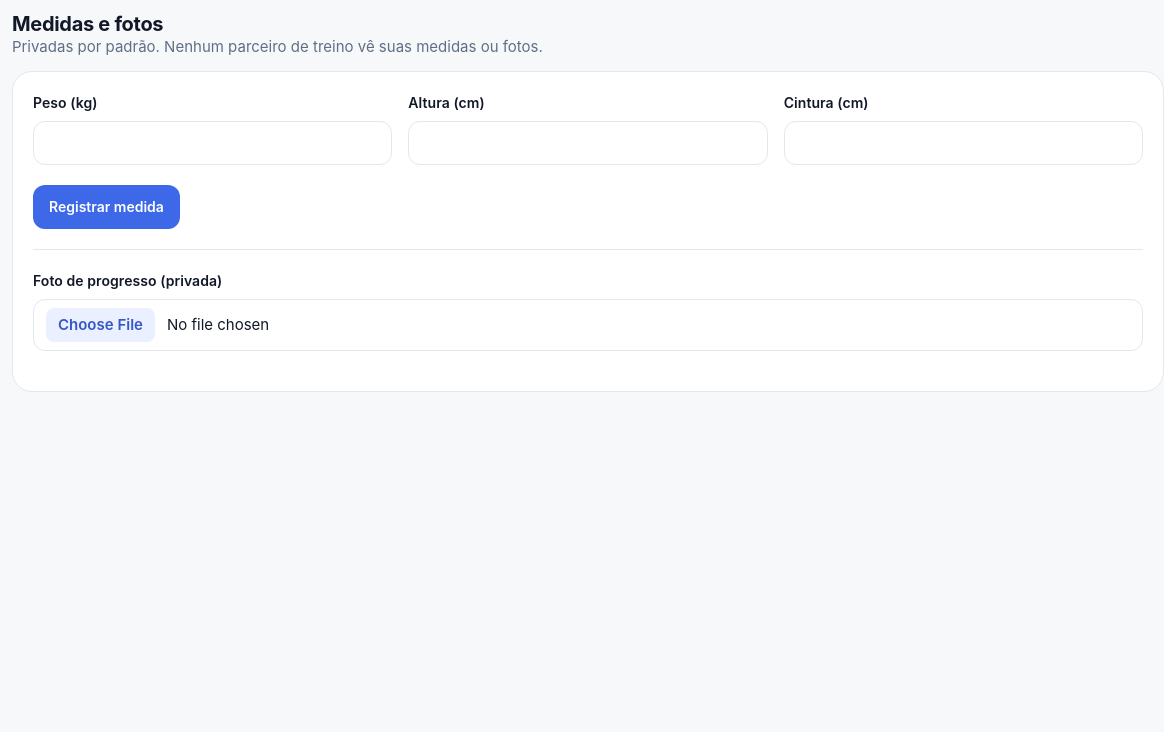
Scenario: MeasurementsPanel › records a private measurement and shows the derived BMI
The image size is (1164, 732).
Step 1. Type "78" into the field labelled "Peso (kg)" → (213, 142), box top-left (33, 120), bottom-right (392, 164)
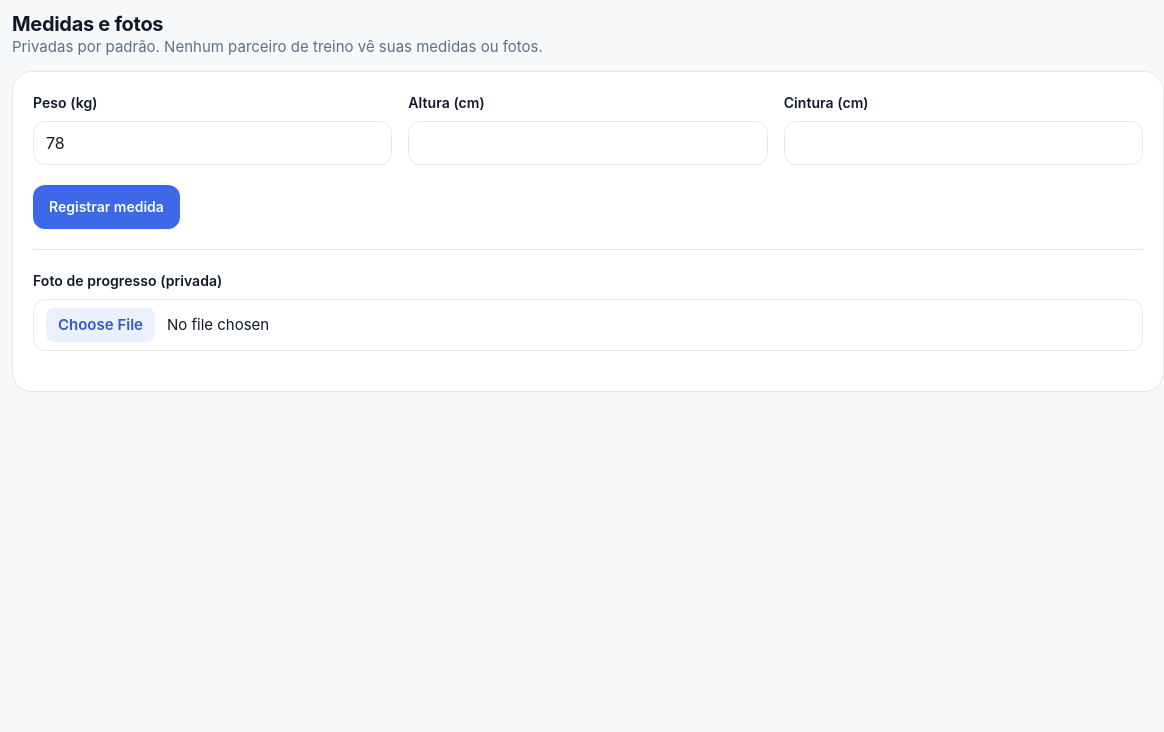
Step 2. Type "175" into the field labelled "Altura (cm)" → (588, 142), box top-left (408, 120), bottom-right (768, 164)
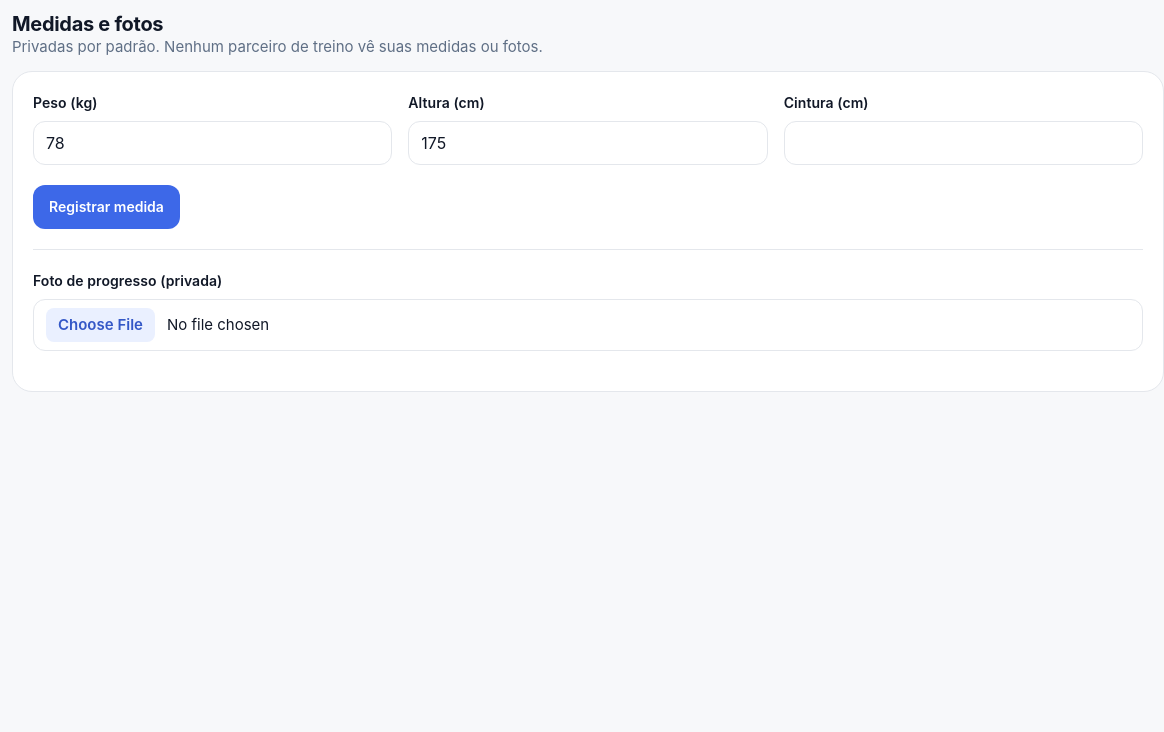
Step 3. Click the button "Registrar medida" → (106, 206), box top-left (33, 184), bottom-right (180, 228)
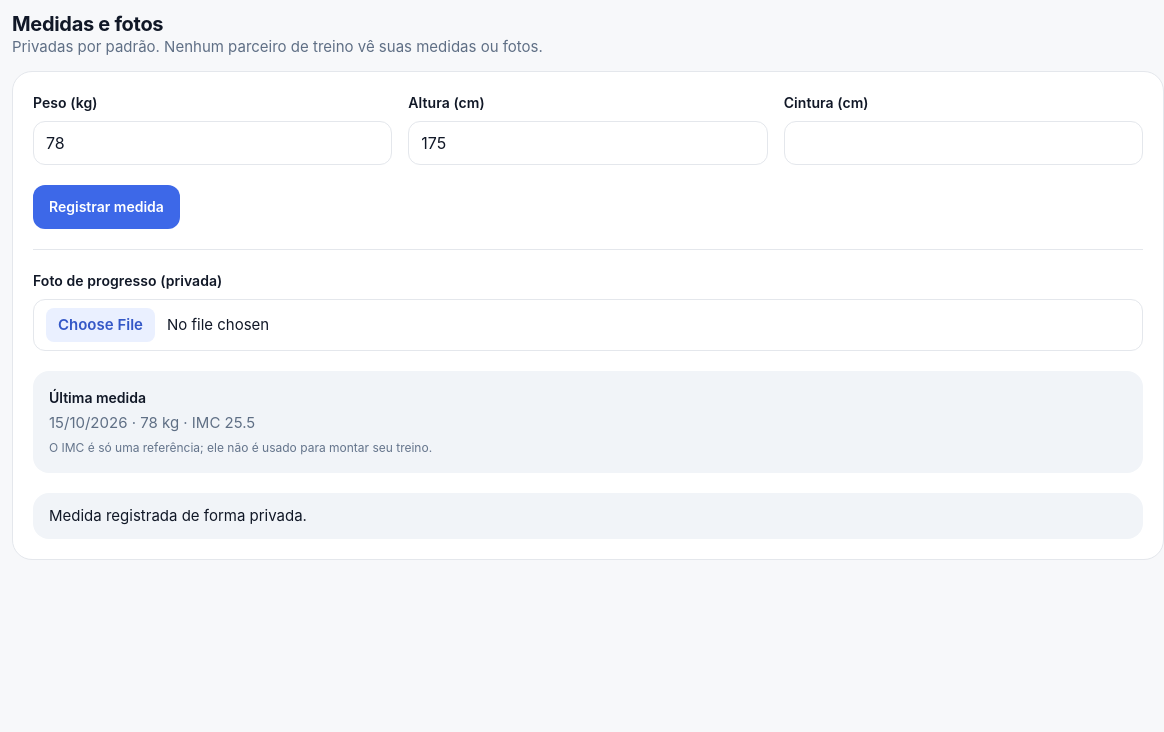
Now the text "15/10/2026 · 78 kg · IMC 25.5" is shown, box top-left (49, 413), bottom-right (255, 432)
Now the text "Medida registrada de forma privada." is shown, box top-left (33, 492), bottom-right (1143, 539)
